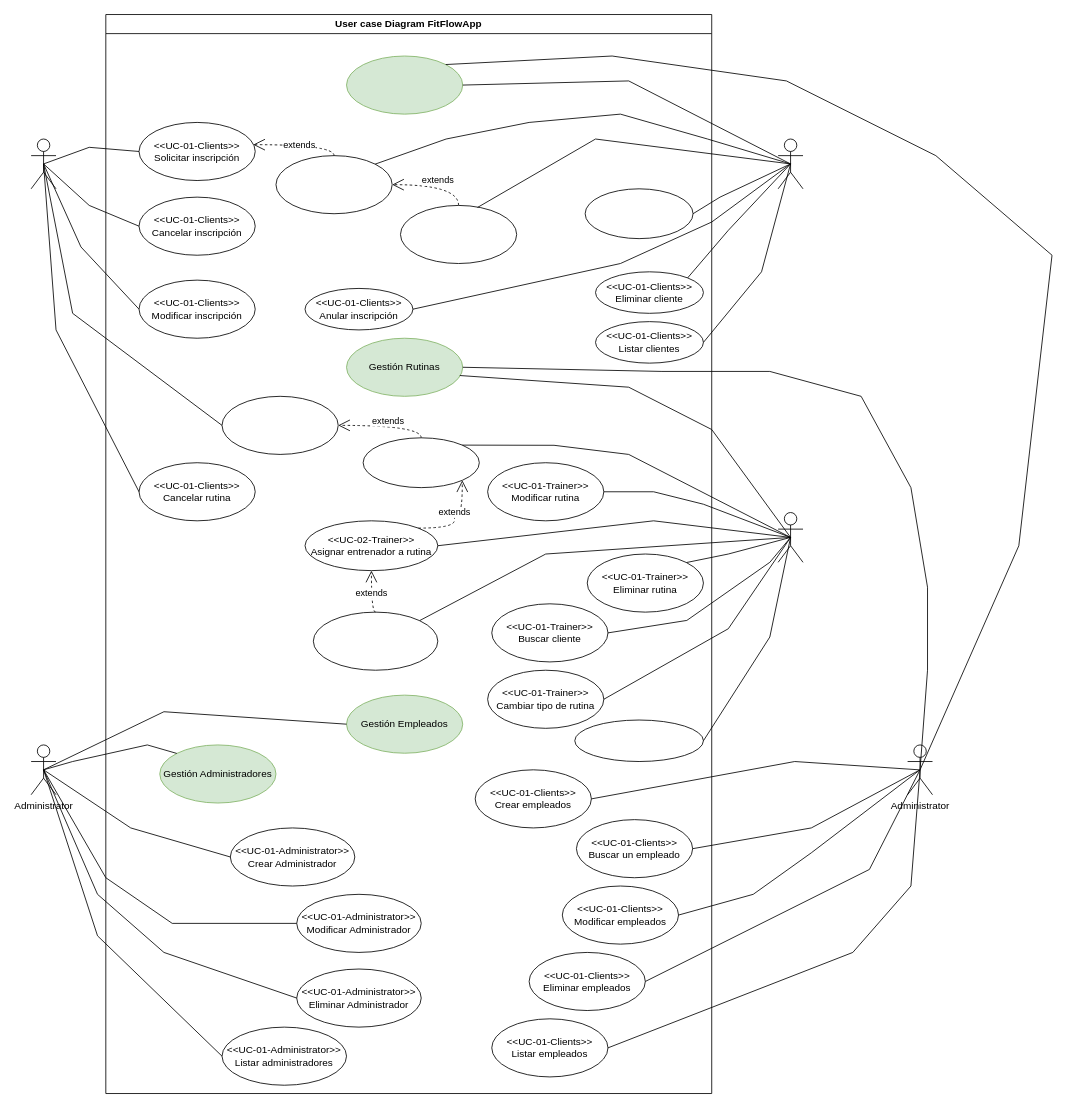
Image size: 1067x1108. Some labels were removed from this diagram. Each missing label, with the centre of its shape:
"<<UC-01-Clients>> Crear Cliente" belongs at (458,234).
"<<UC-01-Clients>> Solicitar rutina" belongs at (279,424).
"<<UC-01-Employee>> Crear inscripción" belongs at (333,184).
"<<UC-01-Trainer>> Listar clientes por tipo de rutina" belongs at (638,740).
"<<UC-02-Clients>> Modificar cliente" belongs at (638,213).
"<<UC-02-Trainer>> Asignar cliente a rutina" belongs at (420,462).
"<<UC-03-Trainer>> Crear rutina" belongs at (375,640).
"Client" belongs at (43,163).
"Employee" belongs at (790,163).
"Gestión Clientes/Inscripción" belongs at (404,84).
"Trainer" belongs at (790,537).
